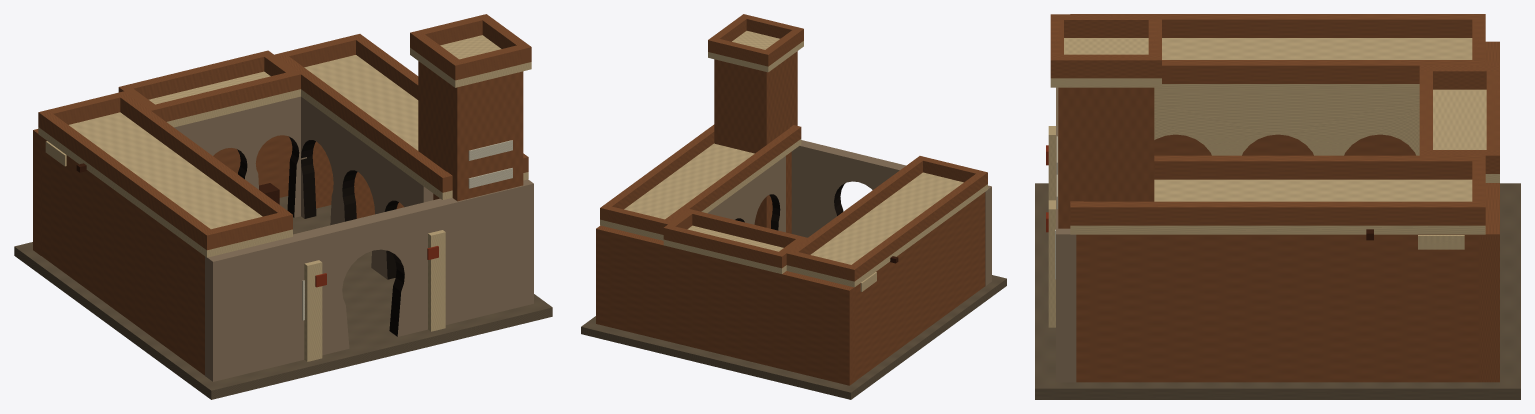
The model's file is Berber_Ribat_Age4.fbx.
The picture shows the model from 3 angles, left to right: view 1: azimuth 30°, elevation 25°; view 2: azimuth 150°, elevation 25°; view 3: azimuth 270°, elevation 25°; orthographic projection. The views are drawn at different scales.
Visible parts, largest first — view 1: south_single_entry_wall, outer_cell_wall_-2.6, foundation, attached_signal_watchtower, cells_flat_roof_-2.6, cell_arcade_2.6, cells_flat_roof_2.6, council_hall_arcade, cells_flat_roof_-2.6_parapet, cells_flat_roof_-2.6_parapet.001, cells_flat_roof_2.6_parapet, rear_devotional_hall (+19 smaller); view 2: rear_devotional_hall, outer_cell_wall_-2.6, attached_signal_watchtower, south_single_entry_wall, foundation, cells_flat_roof_-2.6, cells_flat_roof_2.6, cells_flat_roof_-2.6_parapet, cell_arcade_2.6, cells_flat_roof_-2.6_parapet.001, cells_flat_roof_2.6_parapet, cells_flat_roof_2.6_parapet.001 (+12 smaller); view 3: outer_cell_wall_2.6, foundation, cell_arcade_-2.6, attached_signal_watchtower, cells_flat_roof_2.6, cells_flat_roof_2.6_parapet.001, cells_flat_roof_-2.6, cells_flat_roof_2.6_parapet, cells_flat_roof_-2.6_parapet, cells_flat_roof_-2.6_parapet.001, rear_devotional_hall, south_single_entry_wall (+16 smaller).
Boxes of the visible parts, x1=… form: south_single_entry_wall: x1=205, y1=179, x2=533, y2=381; outer_cell_wall_-2.6: x1=41, y1=137, x2=204, y2=375; foundation: x1=14, y1=196, x2=552, y2=399; attached_signal_watchtower: x1=418, y1=61, x2=523, y2=201; cells_flat_roof_-2.6: x1=38, y1=112, x2=292, y2=257; cell_arcade_2.6: x1=301, y1=97, x2=433, y2=279; cells_flat_roof_2.6: x1=301, y1=55, x2=528, y2=199; council_hall_arcade: x1=174, y1=96, x2=306, y2=217; cells_flat_roof_-2.6_parapet: x1=38, y1=110, x2=216, y2=250; cells_flat_roof_-2.6_parapet.001: x1=115, y1=91, x2=292, y2=231; cells_flat_roof_2.6_parapet: x1=274, y1=52, x2=451, y2=192; rear_devotional_hall: x1=33, y1=129, x2=292, y2=255; rear_devotional_hall: x1=596, y1=225, x2=855, y2=385; outer_cell_wall_-2.6: x1=856, y1=192, x2=985, y2=380; attached_signal_watchtower: x1=714, y1=51, x2=797, y2=233; south_single_entry_wall: x1=791, y1=140, x2=991, y2=285; foundation: x1=581, y1=275, x2=1006, y2=399; cells_flat_roof_-2.6: x1=786, y1=172, x2=987, y2=287; cells_flat_roof_2.6: x1=600, y1=139, x2=801, y2=240; cells_flat_roof_-2.6_parapet: x1=847, y1=170, x2=987, y2=281; cell_arcade_2.6: x1=708, y1=156, x2=785, y2=232; cells_flat_roof_-2.6_parapet.001: x1=786, y1=156, x2=926, y2=266; cells_flat_roof_2.6_parapet: x1=660, y1=125, x2=801, y2=234; cells_flat_roof_2.6_parapet.001: x1=600, y1=124, x2=714, y2=221; outer_cell_wall_2.6: x1=1076, y1=234, x2=1479, y2=382; foundation: x1=1035, y1=183, x2=1520, y2=399; cell_arcade_-2.6: x1=1154, y1=93, x2=1419, y2=155; attached_signal_watchtower: x1=1058, y1=87, x2=1154, y2=228; cells_flat_roof_2.6: x1=1070, y1=179, x2=1485, y2=234; cells_flat_roof_2.6_parapet.001: x1=1070, y1=201, x2=1485, y2=225; cells_flat_roof_-2.6: x1=1154, y1=38, x2=1472, y2=92; cells_flat_roof_2.6_parapet: x1=1154, y1=155, x2=1485, y2=179; cells_flat_roof_-2.6_parapet: x1=1070, y1=14, x2=1485, y2=37; cells_flat_roof_-2.6_parapet.001: x1=1162, y1=60, x2=1485, y2=83; rear_devotional_hall: x1=1479, y1=41, x2=1499, y2=382; south_single_entry_wall: x1=1056, y1=87, x2=1076, y2=382.
Bounding box in the file's own units: 580 × 436 × 580.
7 materials, 7 textured.
